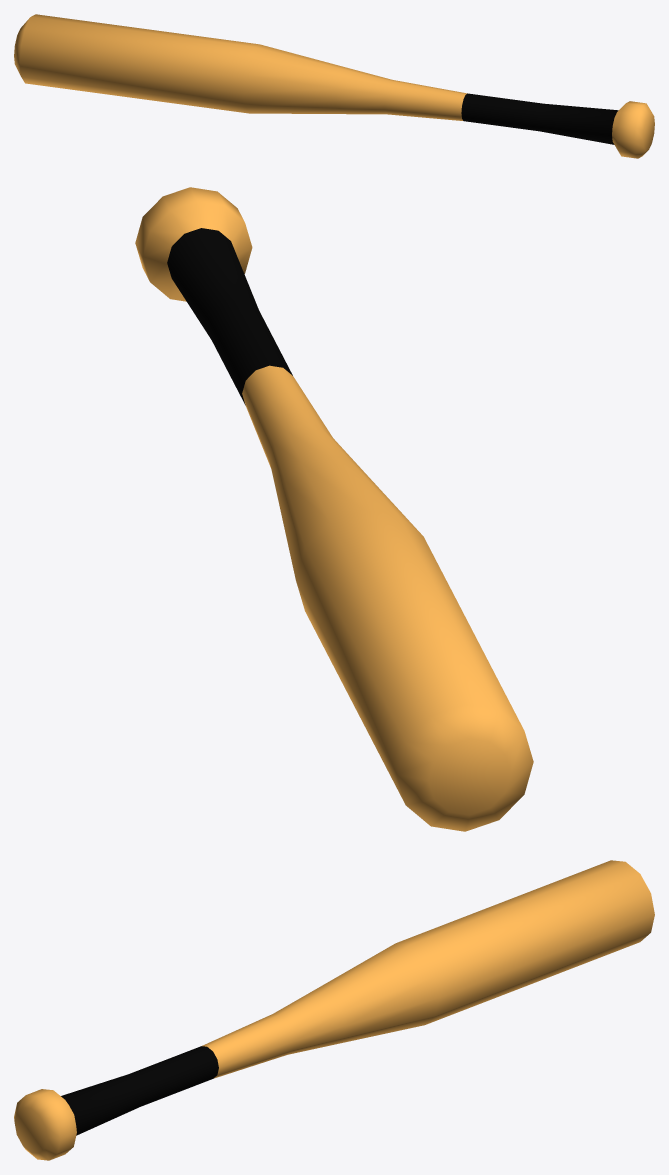
Rendered from ToyObject_197.fbx.
3 renders of one model, top to bottom at view 1: azimuth 30°, elevation 25°; view 2: azimuth 150°, elevation 25°; view 3: azimuth 270°, elevation 25°, orthographic. The views are drawn at different scales.
Visible parts, largest first — view 1: Object.016; view 2: Object.016; view 3: Object.016.
Part boxes in pixels (x1,y1,x2,y2): Object.016: [14, 14, 654, 158]; Object.016: [135, 187, 533, 831]; Object.016: [14, 860, 654, 1160].
Size of the model in its own units: 0.1759 by 0.0257 by 0.1897.
